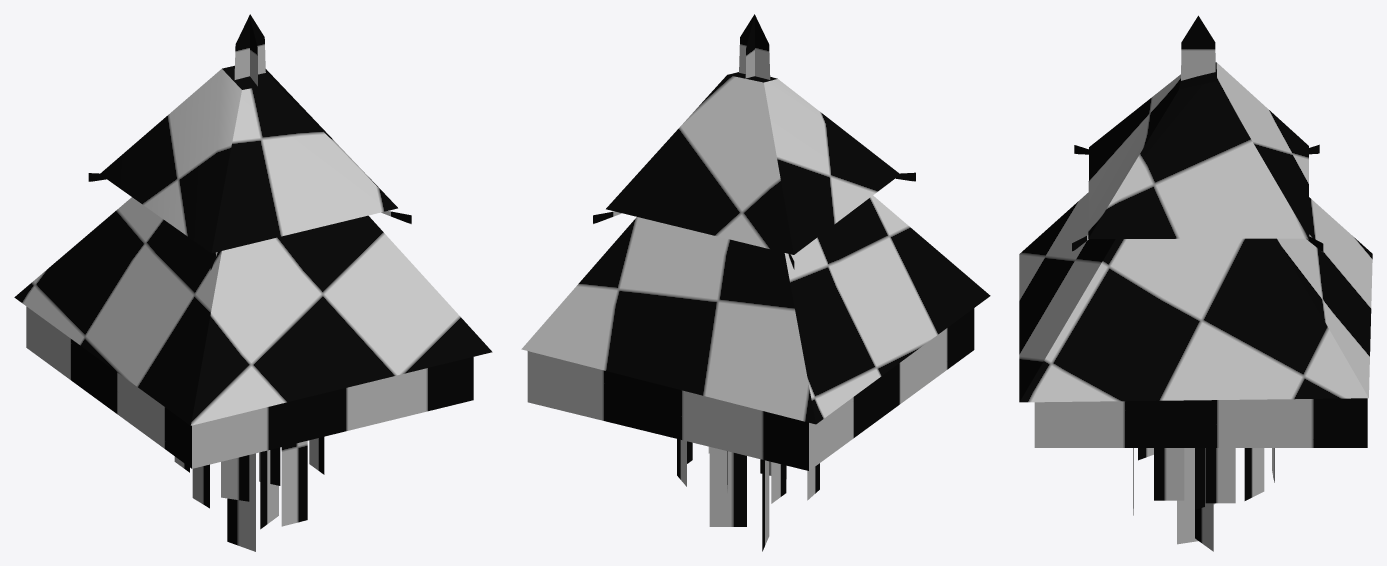
The model's file is asset-vru-pyramid-a.obj.
3 renders of one model, left to right at view 1: azimuth 30°, elevation 25°; view 2: azimuth 150°, elevation 25°; view 3: azimuth 270°, elevation 25°, orthographic.
Parts seen in each view (by area): view 1: asset_vru_pyramid_a; view 2: asset_vru_pyramid_a; view 3: asset_vru_pyramid_a.
Boxes of the visible parts, x1,y1,x2,y2 form: asset_vru_pyramid_a: (14, 14, 492, 551); asset_vru_pyramid_a: (521, 14, 990, 551); asset_vru_pyramid_a: (1019, 15, 1372, 551).
Size of the model in its own units: 238 by 397 by 239.
Materials: 1 (1 with a texture image).
